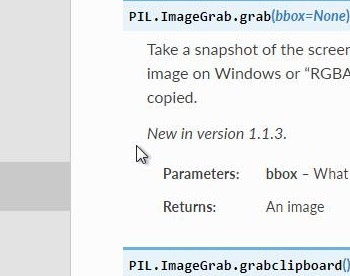cursor: (135, 144, 148, 164)
